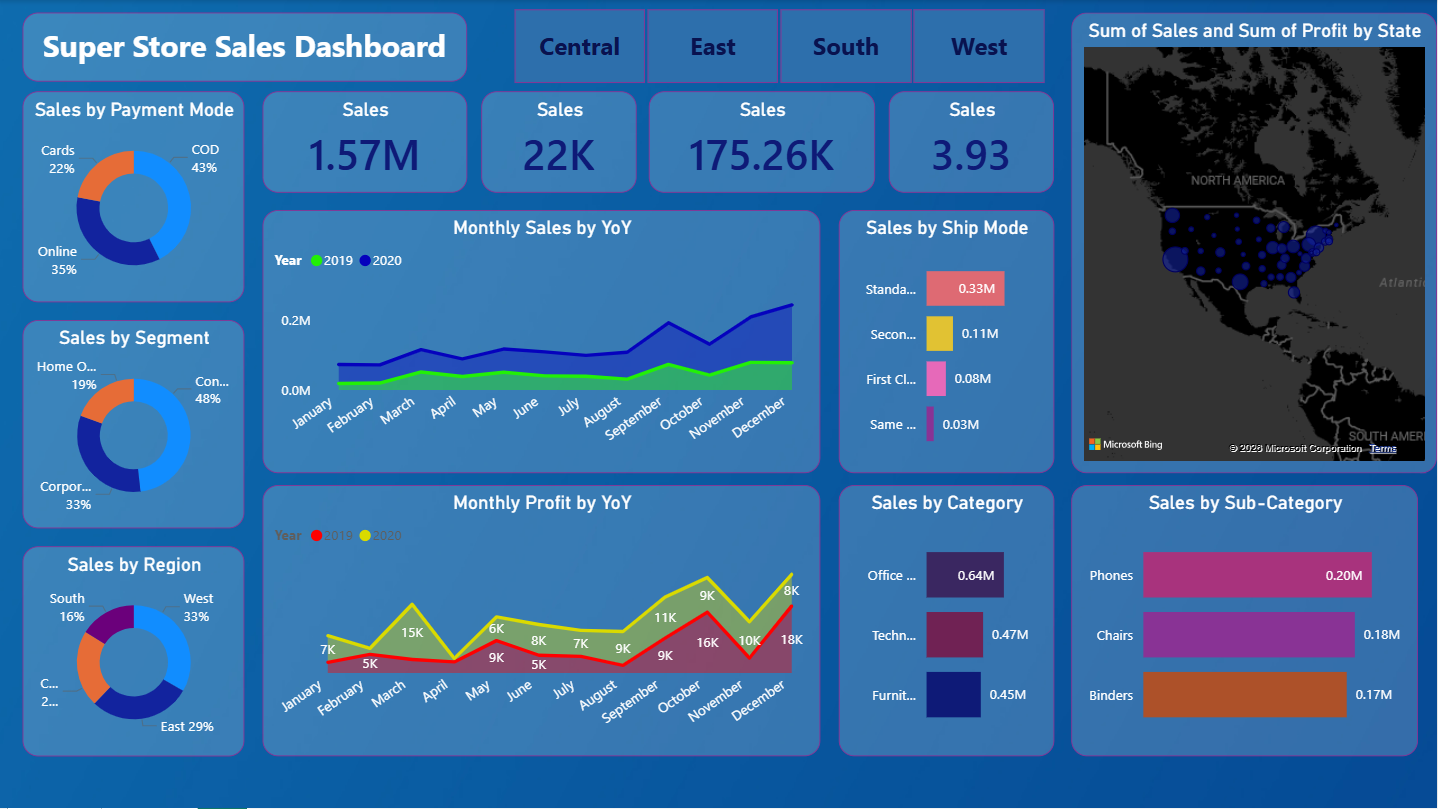

The page's visual inventory and layout, read from the dashboard file:
{"tool":"powerbi","page":{"name":"Page 1","canvas":[1280,720],"ordinal":0},"visuals":[{"type":"clusteredBarChart","title":"Sales by Category","fields":{"Category":["SuperStore_Sales_Dataset.Category"],"Y":["Sum(SuperStore_Sales_Dataset.Sales)"]},"box":[746.8,431.9,191.8,241.3],"z":0},{"type":"clusteredBarChart","title":"Sales by Sub-Category","fields":{"Category":["SuperStore_Sales_Dataset.Sub-Category"],"Y":["Sum(SuperStore_Sales_Dataset.Sales)"]},"box":[954.3,431.9,308.8,241.3],"z":1000},{"type":"clusteredBarChart","title":"Sales by Ship Mode","fields":{"Category":["SuperStore_Sales_Dataset.Ship Mode"],"Y":["Sum(SuperStore_Sales_Dataset.Sales)"]},"box":[746.8,187,191.8,234],"z":2000},{"type":"stackedAreaChart","title":"Monthly Sales by YoY","fields":{"Y":["Sum(SuperStore_Sales_Dataset.Sales)"],"Category":["SuperStore_Sales_Dataset.Order Date.Variation.Date Hierarchy.Month","SuperStore_Sales_Dataset.Order Date.Variation.Date Hierarchy.Day"],"Series":["SuperStore_Sales_Dataset.Order Date.Variation.Date Hierarchy.Year"]},"box":[234,187,497.1,234],"z":3000},{"type":"stackedAreaChart","title":"Monthly Profit by YoY","fields":{"Category":["SuperStore_Sales_Dataset.Order Date.Variation.Date Hierarchy.Month","SuperStore_Sales_Dataset.Order Date.Variation.Date Hierarchy.Day"],"Series":["SuperStore_Sales_Dataset.Order Date.Variation.Date Hierarchy.Year"],"Y":["Sum(SuperStore_Sales_Dataset.Profit)"]},"box":[234,431.9,497.1,241.3],"z":4000},{"type":"donutChart","title":"Sales by Segment","fields":{"Category":["SuperStore_Sales_Dataset.Segment"],"Y":["Sum(SuperStore_Sales_Dataset.Sales)"]},"box":[20.5,284.7,197.9,185.8],"z":5000},{"type":"donutChart","title":"Sales by Region","fields":{"Category":["SuperStore_Sales_Dataset.Region"],"Y":["Sum(SuperStore_Sales_Dataset.Sales)"]},"box":[20.5,486.2,197.9,187],"z":6000},{"type":"slicer","fields":{"Values":["SuperStore_Sales_Dataset.Region"]},"box":[431.9,1.2,522.4,79.6],"z":7000},{"type":"textbox","box":[20.5,10.9,395.7,61.5],"z":8000},{"type":"cardVisual","title":"Sales","fields":{"Data":["Sum(SuperStore_Sales_Dataset.Sales)"]},"box":[234,80.8,182.2,90.5],"z":9000},{"type":"cardVisual","title":"Sales","fields":{"Data":["Sum(SuperStore_Sales_Dataset.Quantity)"]},"box":[428.3,80.8,138.7,90.5],"z":10000},{"type":"cardVisual","title":"Sales","fields":{"Data":["Sum(SuperStore_Sales_Dataset.Profit)"]},"box":[577.9,80.8,201.5,90.5],"z":11000},{"type":"cardVisual","title":"Sales","fields":{"Data":["Avg(SuperStore_Sales_Dataset.AvgDelivary)"]},"box":[791.4,80.8,147.2,90.5],"z":12000},{"type":"map","fields":{"Category":["SuperStore_Sales_Dataset.State"],"Size":["Sum(SuperStore_Sales_Dataset.Sales)"]},"box":[954.3,10.9,325.7,410.2],"z":13000},{"type":"donutChart","title":"Sales by Payment Mode","fields":{"Category":["SuperStore_Sales_Dataset.Payment Mode"],"Y":["Sum(SuperStore_Sales_Dataset.Sales)"]},"box":[20.5,80.8,197.9,188.2],"z":14000}]}

Visuals, with their boxes in screenshot pixels (x1, y1, x2, y2), scaled from the page's 1280x720 canvas onto the 1438x809 screenshot:
"Sales by Category" clusteredBarChart: 839/485/1054/756
"Sales by Sub-Category" clusteredBarChart: 1072/485/1419/756
"Sales by Ship Mode" clusteredBarChart: 839/210/1054/473
"Monthly Sales by YoY" stackedAreaChart: 263/210/821/473
"Monthly Profit by YoY" stackedAreaChart: 263/485/821/756
"Sales by Segment" donutChart: 23/320/245/529
"Sales by Region" donutChart: 23/546/245/756
slicer - SuperStore_Sales_Dataset.Region: 485/1/1072/91
textbox: 23/12/468/81
"Sales" cardVisual: 263/91/468/192
"Sales" cardVisual: 481/91/637/192
"Sales" cardVisual: 649/91/876/192
"Sales" cardVisual: 889/91/1054/192
map - SuperStore_Sales_Dataset.State x Sum(SuperStore_Sales_Dataset.Sales): 1072/12/1437/473
"Sales by Payment Mode" donutChart: 23/91/245/302
